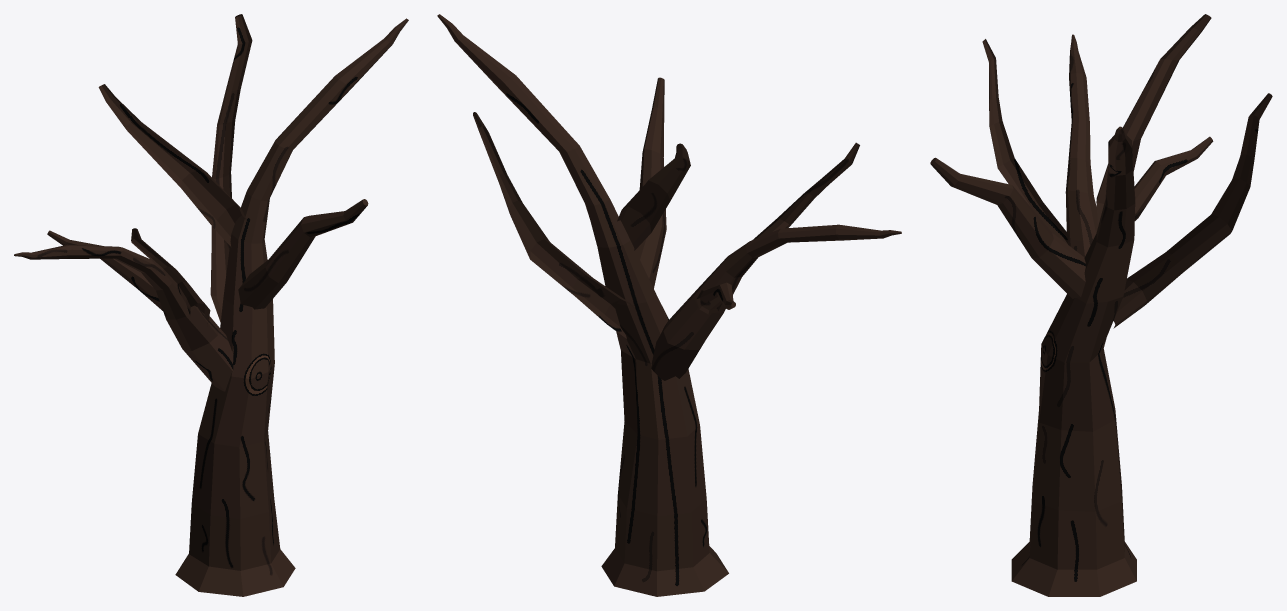
File: SM_LilSTree.fbx
The picture shows the model from 3 angles, left to right: view 1: azimuth 30°, elevation 25°; view 2: azimuth 150°, elevation 25°; view 3: azimuth 270°, elevation 25°; orthographic projection. The views are drawn at different scales.
Visible parts, largest first — view 1: SM_LilSTree; view 2: SM_LilSTree; view 3: SM_LilSTree.
Boxes of the visible parts, <box> form: SM_LilSTree: <box>14,14,408,596</box>; SM_LilSTree: <box>437,14,901,596</box>; SM_LilSTree: <box>930,14,1272,596</box>.
Bounding box in the file's own units: 976 × 1102 × 623.
